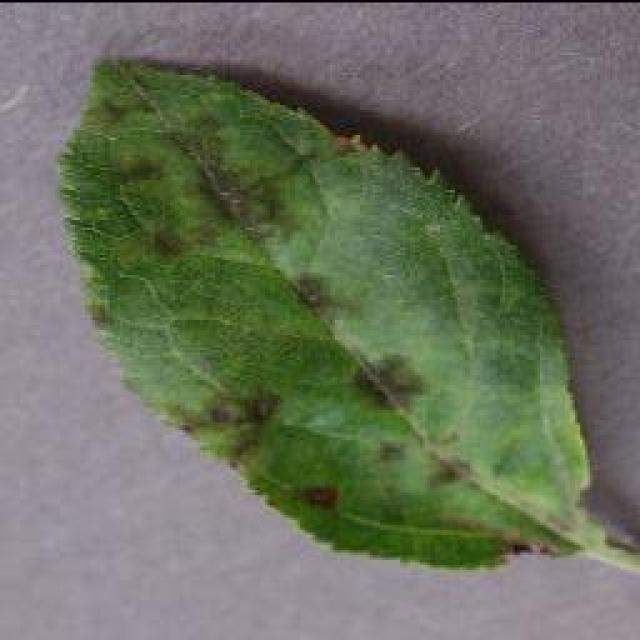apple scab disease: (55, 53, 617, 575)
